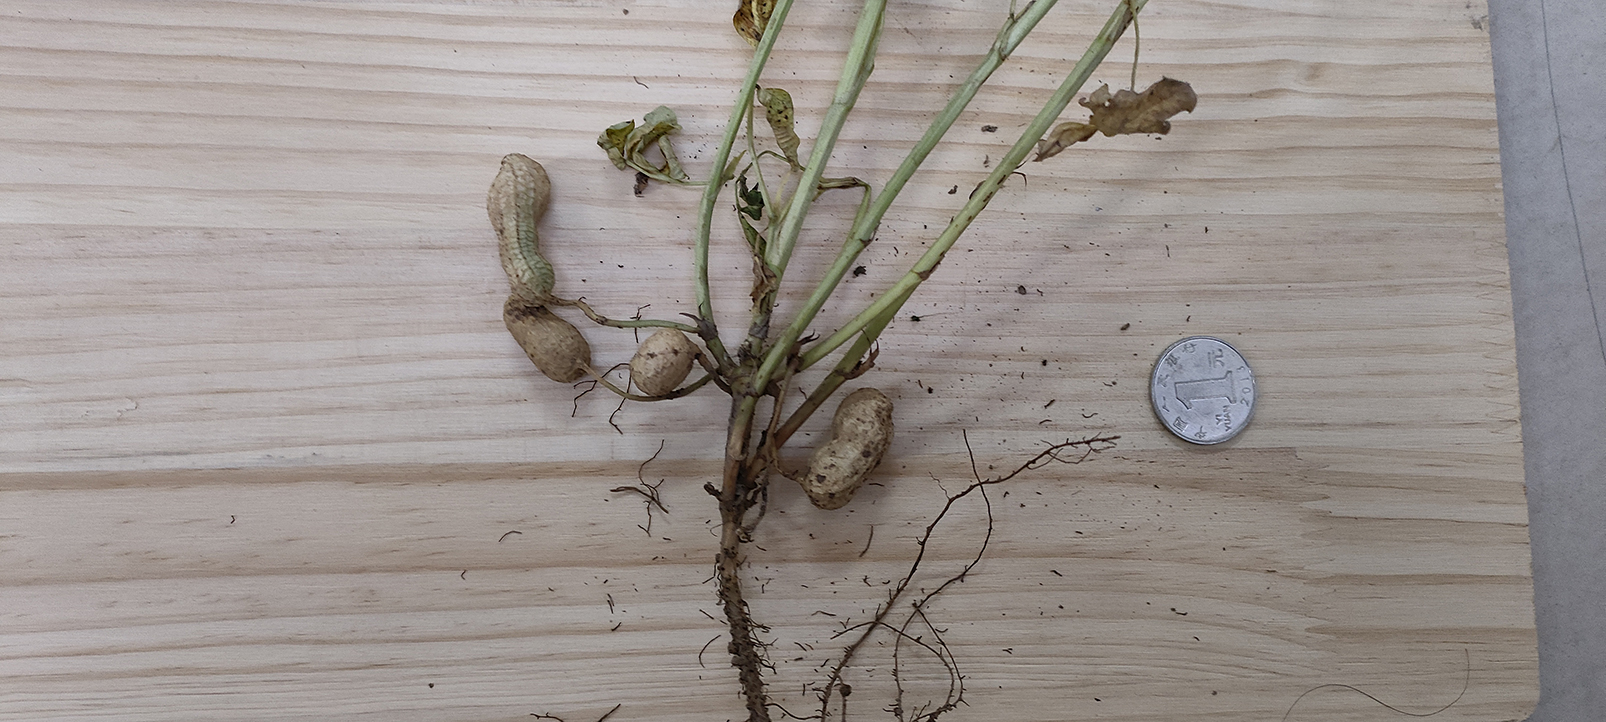h: (808, 387, 897, 507), (488, 155, 555, 303), (503, 305, 589, 380), (630, 328, 694, 397)
